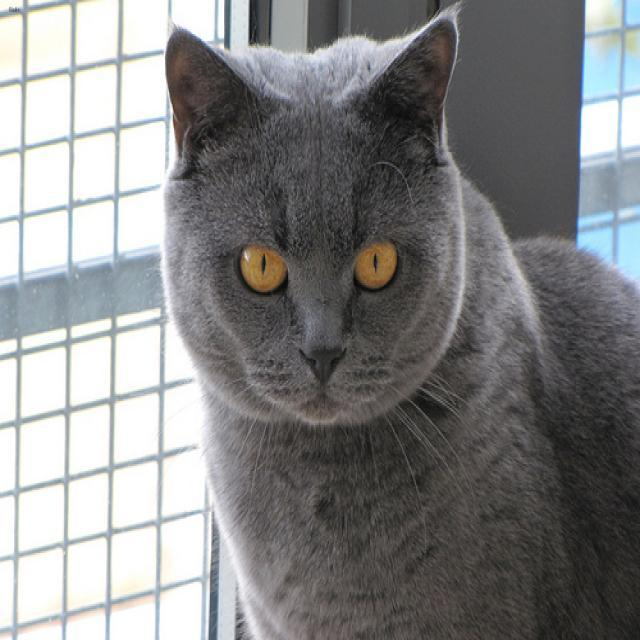British_Shorthair: (163, 7, 458, 421)
